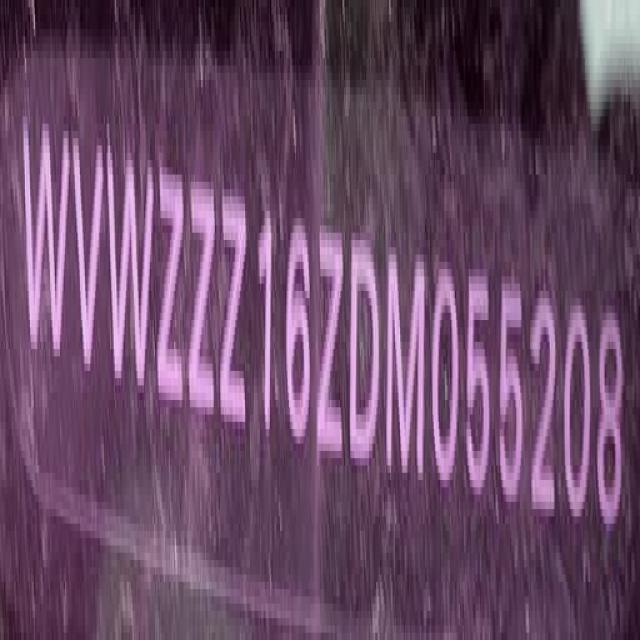0: (564, 299, 594, 530), (433, 260, 460, 497)
1: (256, 182, 276, 446)
2: (530, 284, 559, 518)
5: (499, 267, 527, 511), (466, 262, 494, 503)
6: (287, 203, 314, 455)
8: (599, 310, 627, 534)
D: (349, 227, 382, 476)
M: (388, 238, 429, 488)
V: (74, 126, 105, 388)
W: (107, 128, 153, 398), (19, 129, 71, 345)
Z: (190, 166, 218, 430), (317, 212, 345, 469), (158, 158, 186, 411), (220, 183, 247, 440)
